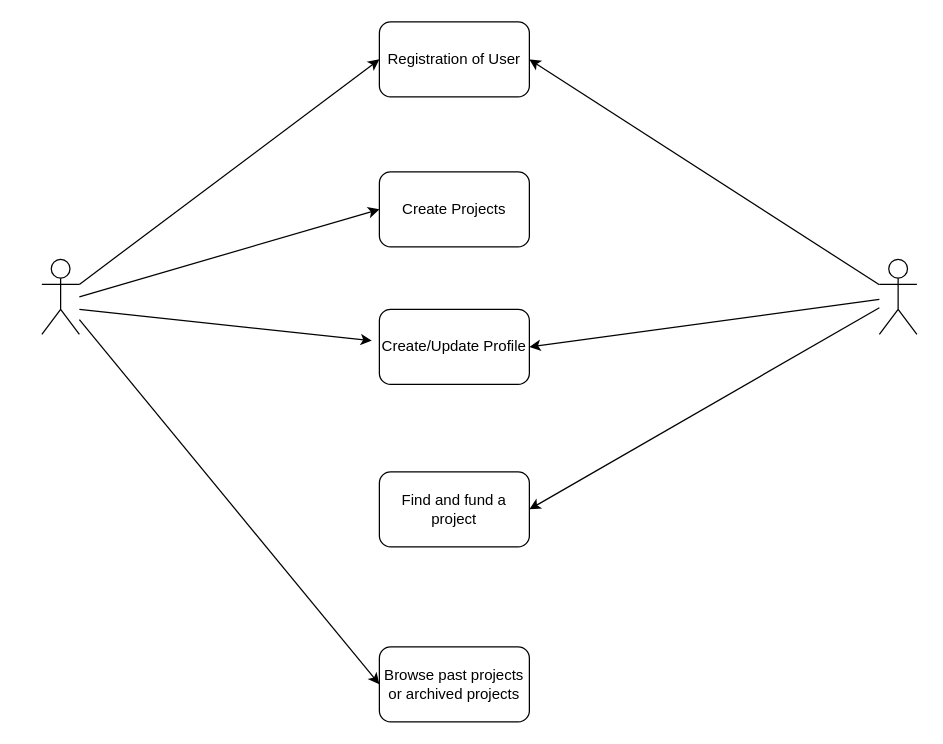
Some shapes in this 943 by 744 pixel diagram are drawn without their labels. The box of each missing label's shape, as (x1, y1, x2, y2) in pixels:
Funder: (878, 258, 917, 334)
FundRaiser: (41, 258, 79, 334)
